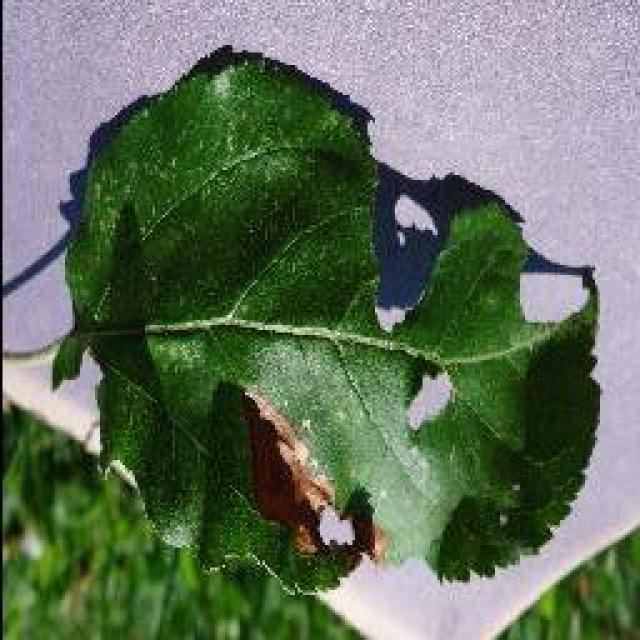Black_rot: (50, 42, 638, 638)
